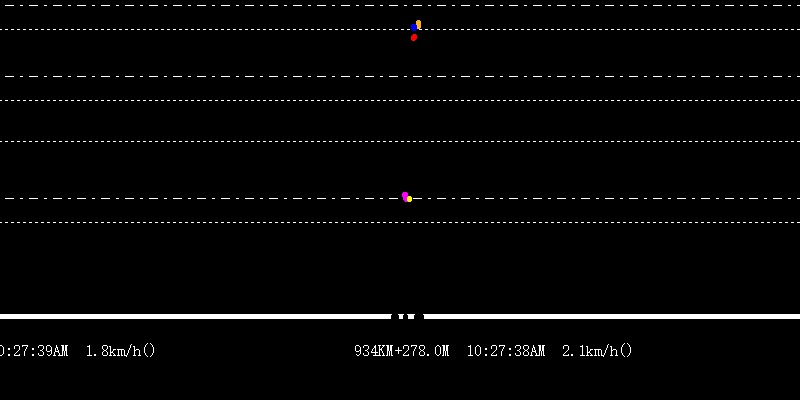face_1: (416, 14, 421, 34)
